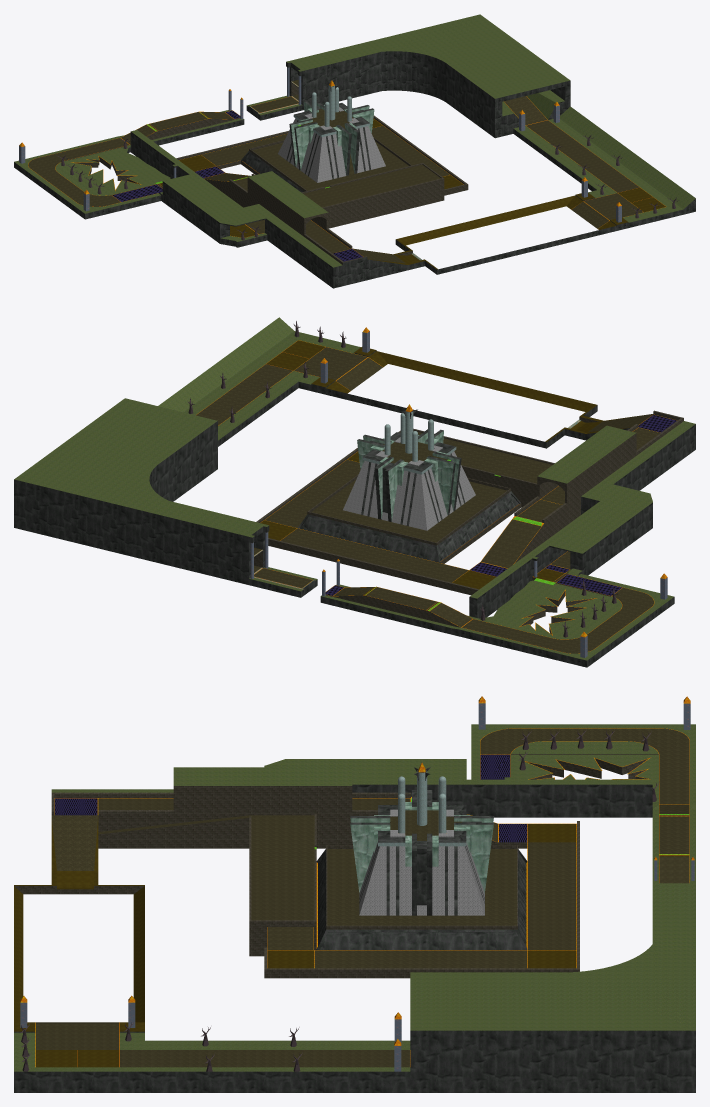
3 renders of one model, top to bottom at view 1: azimuth 30°, elevation 25°; view 2: azimuth 150°, elevation 25°; view 3: azimuth 270°, elevation 25°, orthographic. The views are drawn at different scales.
Visible parts, largest first — view 1: Ziggurat_Bay_Main-grass, Ziggurat_Bay_Main-paroi, Ziggurat_Bay_Main-road1, Ziggurat_Bay_Main-mur1, Ziggurat_Bay_Main-road3, Ziggurat_Bay_Main-temple3, Ziggurat_Bay_Main-temple4, Ziggurat_Bay_Main-road4, Ziggurat_Bay_Main-obelix, Ziggurat_Bay_Main-grid, Ziggurat_Bay_Main-temple2, Ziggurat_Bay_Main-tree; view 2: Ziggurat_Bay_Main-paroi, Ziggurat_Bay_Main-grass, Ziggurat_Bay_Main-road1, Ziggurat_Bay_Main-mur1, Ziggurat_Bay_Main-road3, Ziggurat_Bay_Main-temple3, Ziggurat_Bay_Main-temple4, Ziggurat_Bay_Main-road4, Ziggurat_Bay_Main-grid, Ziggurat_Bay_Main-temple2, Ziggurat_Bay_Main-obelix, Ziggurat_Bay_Main-tree; view 3: Ziggurat_Bay_Main-paroi, Ziggurat_Bay_Main-road1, Ziggurat_Bay_Main-grass, Ziggurat_Bay_Main-mur1, Ziggurat_Bay_Main-road3, Ziggurat_Bay_Main-temple3, Ziggurat_Bay_Main-temple4, Ziggurat_Bay_Main-road4, Ziggurat_Bay_Main-grid, Ziggurat_Bay_Main-temple2, Ziggurat_Bay_Main-obelix, Ziggurat_Bay_Main-tree.
Part boxes in pixels (<box>): Ziggurat_Bay_Main-grass: <box>14,14,695,267</box>; Ziggurat_Bay_Main-paroi: <box>14,51,695,288</box>; Ziggurat_Bay_Main-road1: <box>28,80,643,263</box>; Ziggurat_Bay_Main-mur1: <box>65,83,468,264</box>; Ziggurat_Bay_Main-road3: <box>159,80,665,269</box>; Ziggurat_Bay_Main-temple3: <box>278,107,385,182</box>; Ziggurat_Bay_Main-temple4: <box>291,102,374,174</box>; Ziggurat_Bay_Main-road4: <box>19,80,666,256</box>; Ziggurat_Bay_Main-obelix: <box>19,67,621,222</box>; Ziggurat_Bay_Main-grid: <box>112,110,362,261</box>; Ziggurat_Bay_Main-temple2: <box>293,86,370,137</box>; Ziggurat_Bay_Main-tree: <box>56,135,679,240</box>; Ziggurat_Bay_Main-paroi: <box>14,350,695,667</box>; Ziggurat_Bay_Main-grass: <box>14,317,695,660</box>; Ziggurat_Bay_Main-road1: <box>196,347,659,653</box>; Ziggurat_Bay_Main-mur1: <box>254,410,683,634</box>; Ziggurat_Bay_Main-road3: <box>254,340,646,595</box>; Ziggurat_Bay_Main-temple3: <box>343,437,475,530</box>; Ziggurat_Bay_Main-temple4: <box>357,431,459,521</box>; Ziggurat_Bay_Main-road4: <box>196,327,676,653</box>; Ziggurat_Bay_Main-grid: <box>325,414,677,595</box>; Ziggurat_Bay_Main-temple2: <box>362,411,456,474</box>; Ziggurat_Bay_Main-obelix: <box>250,331,667,657</box>; Ziggurat_Bay_Main-tree: <box>188,321,617,637</box>; Ziggurat_Bay_Main-paroi: <box>14,767,695,1092</box>; Ziggurat_Bay_Main-road1: <box>36,728,689,1067</box>; Ziggurat_Bay_Main-grass: <box>14,724,695,1071</box>; Ziggurat_Bay_Main-mur1: <box>14,754,658,978</box>; Ziggurat_Bay_Main-road3: <box>14,817,689,1067</box>; Ziggurat_Bay_Main-temple3: <box>359,809,484,915</box>; Ziggurat_Bay_Main-temple4: <box>350,802,493,892</box>; Ziggurat_Bay_Main-road4: <box>20,696,694,1067</box>; Ziggurat_Bay_Main-grid: <box>54,754,527,842</box>; Ziggurat_Bay_Main-temple2: <box>378,771,466,846</box>; Ziggurat_Bay_Main-obelix: <box>20,703,694,1071</box>; Ziggurat_Bay_Main-tree: <box>20,729,658,1071</box>.
Size of the model in its own units: 89020 by 17275 by 71364.
16 materials, 16 textured.
